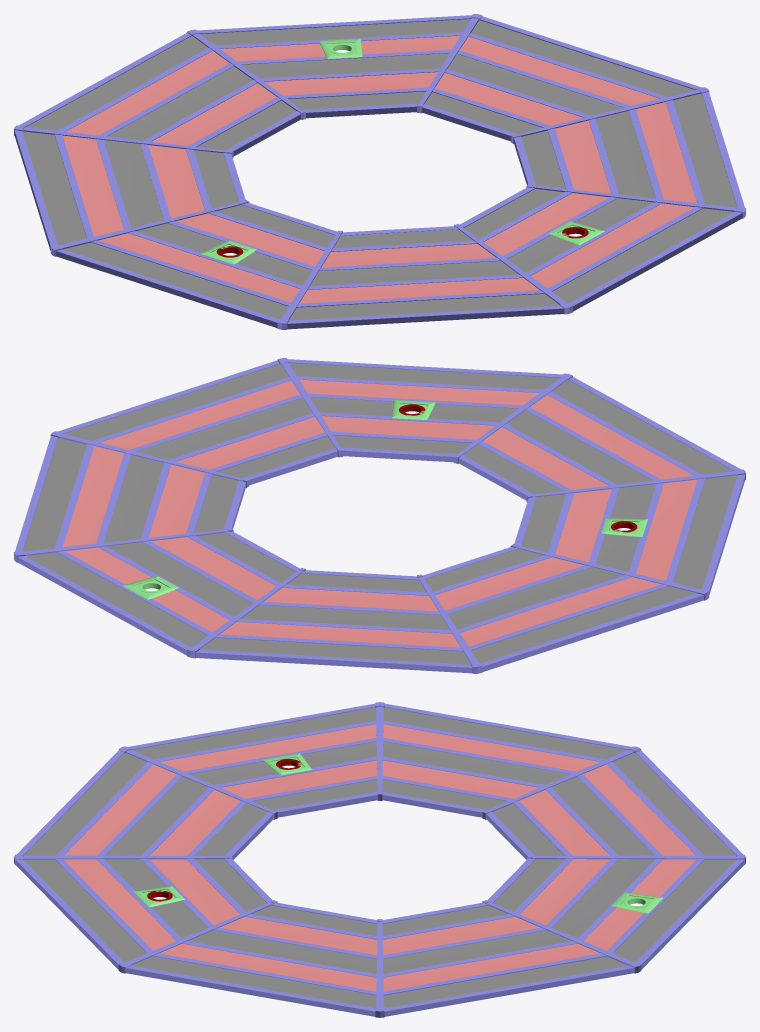
The model's file is MoonBaboon_MovingFloor_01.gltf.
3 views of the same model, one above another, from view 1: azimuth 30°, elevation 25°; view 2: azimuth 150°, elevation 25°; view 3: azimuth 270°, elevation 25° (orthographic). The views are drawn at different scales.
Visible parts, largest first — view 1: MoonBaboon_MovingFloor_01; view 2: MoonBaboon_MovingFloor_01; view 3: MoonBaboon_MovingFloor_01.
Part boxes in pixels (<box>): MoonBaboon_MovingFloor_01: <box>14,14,745,329</box>; MoonBaboon_MovingFloor_01: <box>14,358,745,673</box>; MoonBaboon_MovingFloor_01: <box>14,702,745,1017</box>.
Bounding box in the file's own units: 120 × 1.24 × 120.
